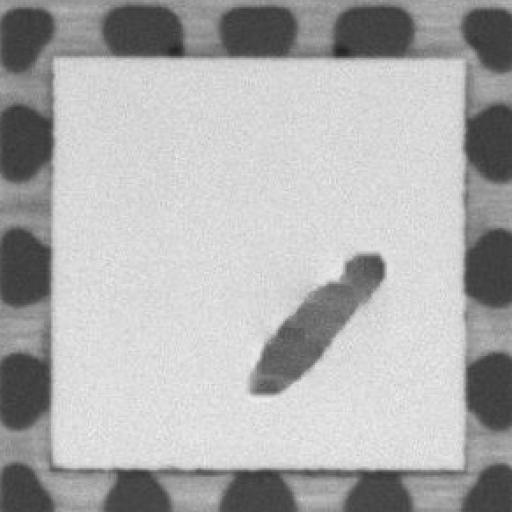DIE_INK: (240, 240, 386, 409)
